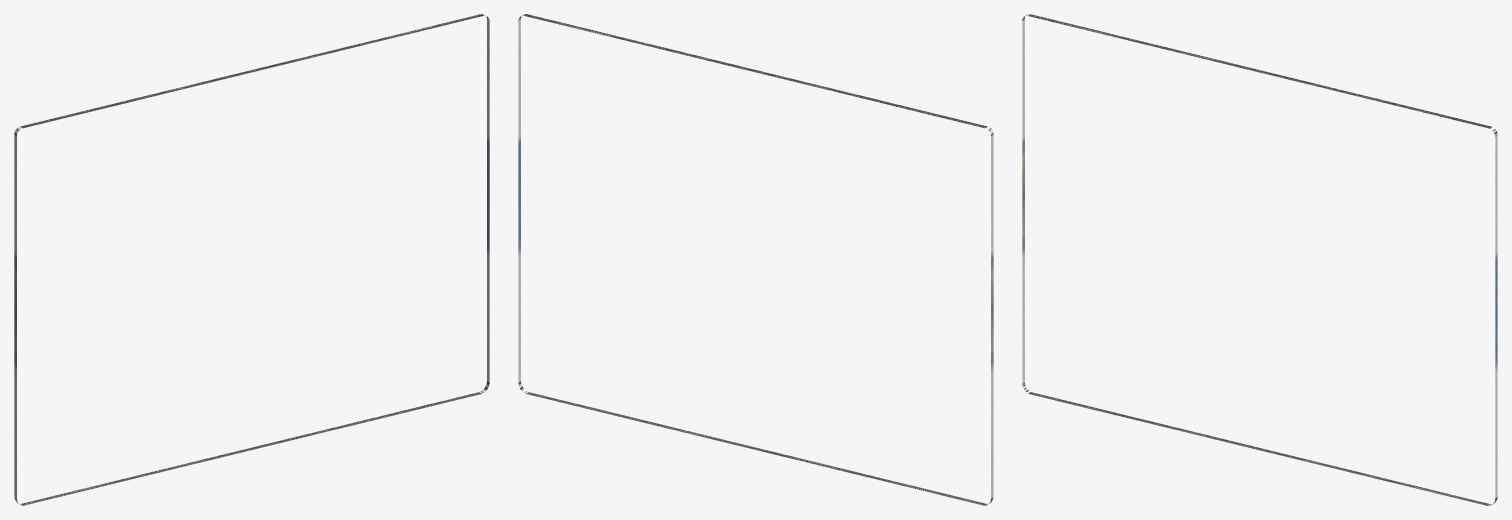
The model's file is original-40.obj.
3 views of the same model, side by side, from view 1: azimuth 30°, elevation 25°; view 2: azimuth 150°, elevation 25°; view 3: azimuth 330°, elevation 25° (orthographic).
Parts seen in each view (by area): view 1: 3dw.5334cfe15f80099f15ac67104577aee7/Model/mesh1/mesh1-geometry/; view 2: 3dw.5334cfe15f80099f15ac67104577aee7/Model/mesh1/mesh1-geometry/; view 3: 3dw.5334cfe15f80099f15ac67104577aee7/Model/mesh1/mesh1-geometry/.
Part boxes in pixels (bbox=[...]): 3dw.5334cfe15f80099f15ac67104577aee7/Model/mesh1/mesh1-geometry/: bbox=[14, 14, 489, 505]; 3dw.5334cfe15f80099f15ac67104577aee7/Model/mesh1/mesh1-geometry/: bbox=[518, 14, 993, 505]; 3dw.5334cfe15f80099f15ac67104577aee7/Model/mesh1/mesh1-geometry/: bbox=[1022, 14, 1497, 505].
Bounding box in the file's own units: 0.9231 × 0.7047 × 0.00865.
2 materials, 1 textured.
